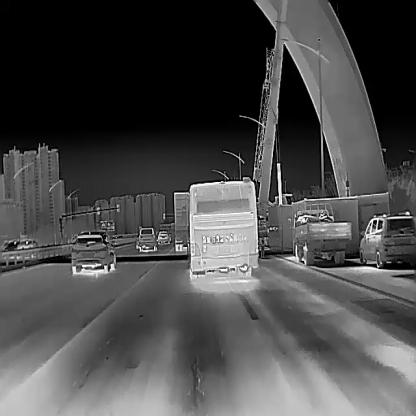bus: (181, 176, 258, 278)
car: (359, 213, 415, 267), (70, 230, 116, 272), (14, 238, 38, 260), (138, 228, 156, 250), (156, 230, 170, 245)
truck: (287, 208, 352, 266), (172, 191, 189, 260)
